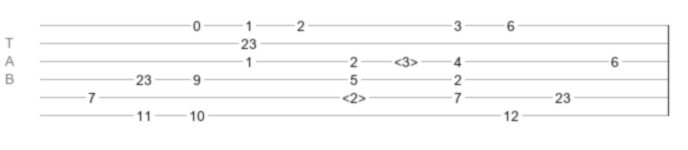0: (193, 18, 201, 28)
1: (245, 54, 253, 64), (245, 18, 253, 28)
10: (189, 108, 205, 118)
11: (136, 108, 152, 118)
12: (503, 108, 519, 118)
2: (297, 18, 305, 28), (350, 54, 358, 64), (454, 72, 462, 82)
23: (136, 72, 152, 82), (241, 36, 257, 46), (555, 90, 571, 100)
3: (454, 18, 462, 28)
4: (454, 54, 462, 64)
5: (350, 72, 358, 82)
6: (507, 18, 515, 28), (611, 54, 619, 64)
7: (88, 90, 96, 100), (454, 90, 462, 100)
9: (193, 72, 201, 82)
harmonic: (342, 90, 366, 100), (394, 54, 418, 64)
